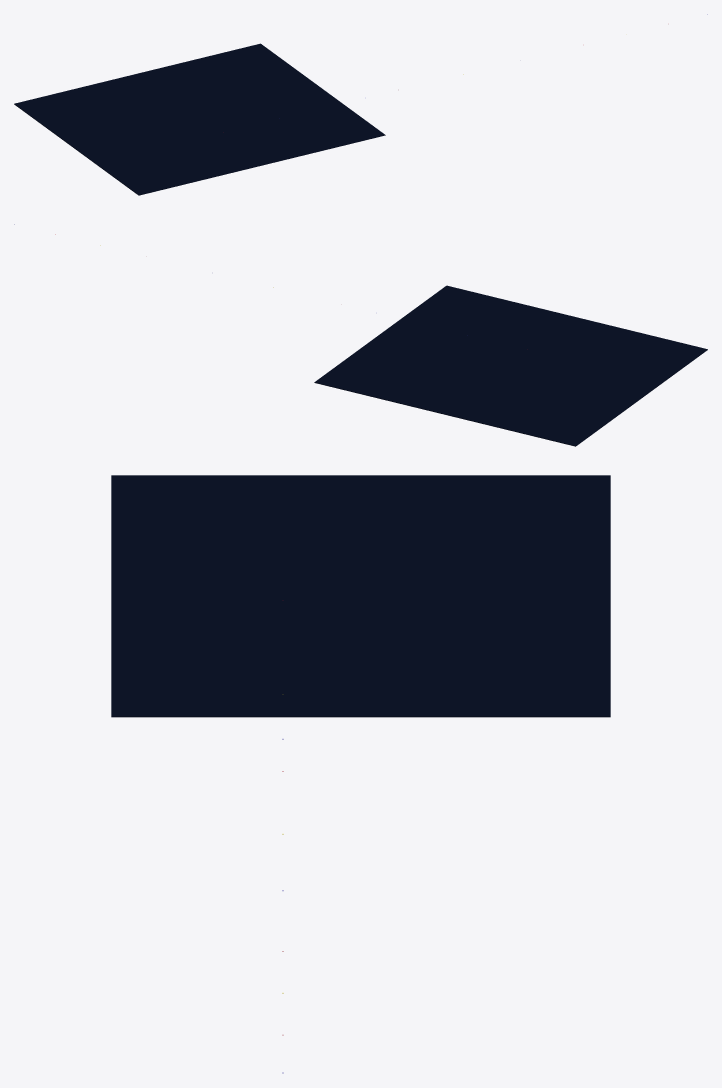
The model's file is world_light.dae.
The picture shows the model from 3 angles, top to bottom: view 1: azimuth 30°, elevation 25°; view 2: azimuth 150°, elevation 25°; view 3: azimuth 270°, elevation 25°; orthographic projection. The views are drawn at different scales.
Parts seen in each view (by area): view 1: Cube; view 2: Cube; view 3: Cube.
Boxes of the visible parts, left/top/right/bottom form: Cube: left=14, top=43, right=385, bottom=195; Cube: left=314, top=285, right=707, bottom=446; Cube: left=111, top=475, right=610, bottom=717.
Bounding box in the file's own units: 45.01 × 15.9 × 0.0399.
